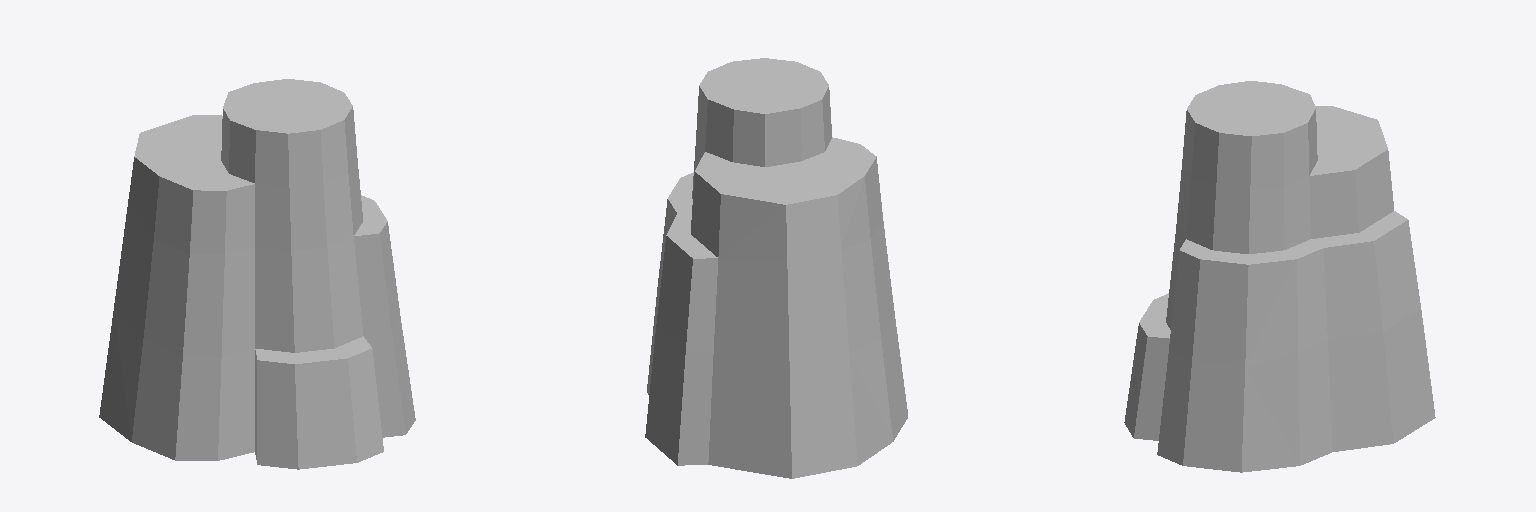
File: rock_cliff_01_lava.obj
3 views of the same model, side by side, from view 1: azimuth 30°, elevation 25°; view 2: azimuth 150°, elevation 25°; view 3: azimuth 270°, elevation 25° (orthographic).
Parts seen in each view (by area): view 1: rock_cliff_01_lava; view 2: rock_cliff_01_lava; view 3: rock_cliff_01_lava.
Boxes of the visible parts, <box> form: rock_cliff_01_lava: <box>99,79,415,469</box>; rock_cliff_01_lava: <box>645,58,907,478</box>; rock_cliff_01_lava: <box>1124,81,1435,472</box>.
Size of the model in its own units: 975 by 1162 by 1052.